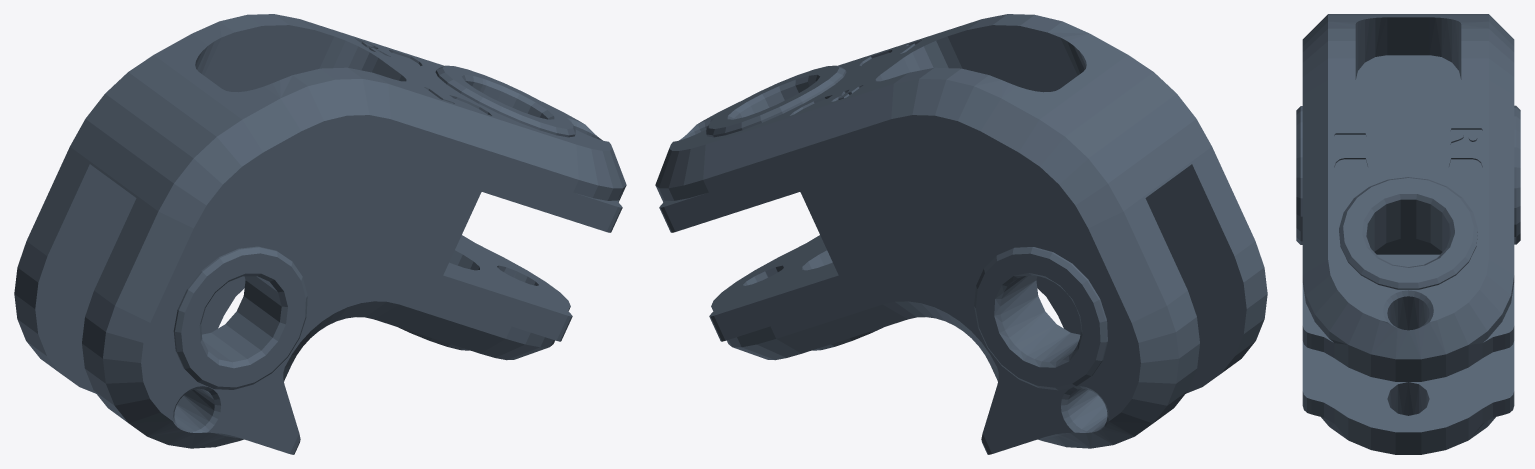
The model's file is R_thumb_prox.dae.
The picture shows the model from 3 angles, left to right: view 1: azimuth 30°, elevation 25°; view 2: azimuth 150°, elevation 25°; view 3: azimuth 270°, elevation 25°; orthographic projection. The views are drawn at different scales.
Parts seen in each view (by area): view 1: R_thumb_prox; view 2: R_thumb_prox; view 3: R_thumb_prox.
Boxes of the visible parts, bbox=[...] form: R_thumb_prox: bbox=[14, 14, 626, 454]; R_thumb_prox: bbox=[655, 14, 1267, 454]; R_thumb_prox: bbox=[1296, 14, 1520, 454].
Size of the model in its own units: 0.0273 by 0.0106 by 0.0168.
